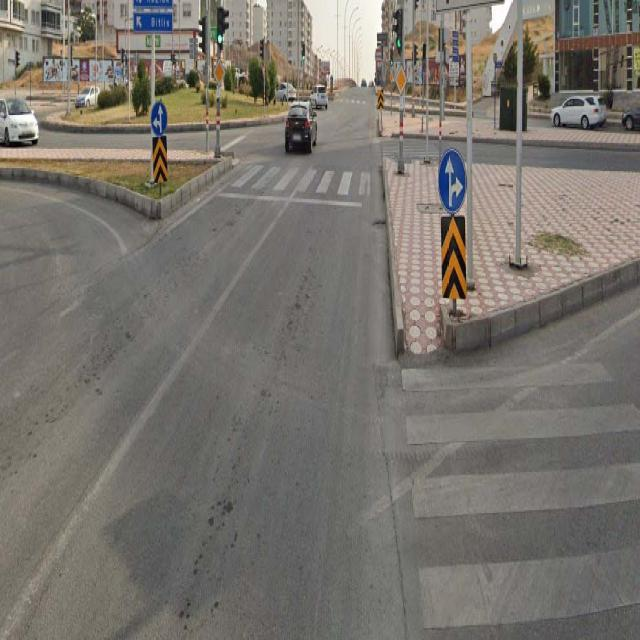ilerisag: (437, 154, 468, 216)
ilerisol: (150, 98, 166, 138)
yesil: (394, 8, 402, 52), (216, 7, 223, 46)
